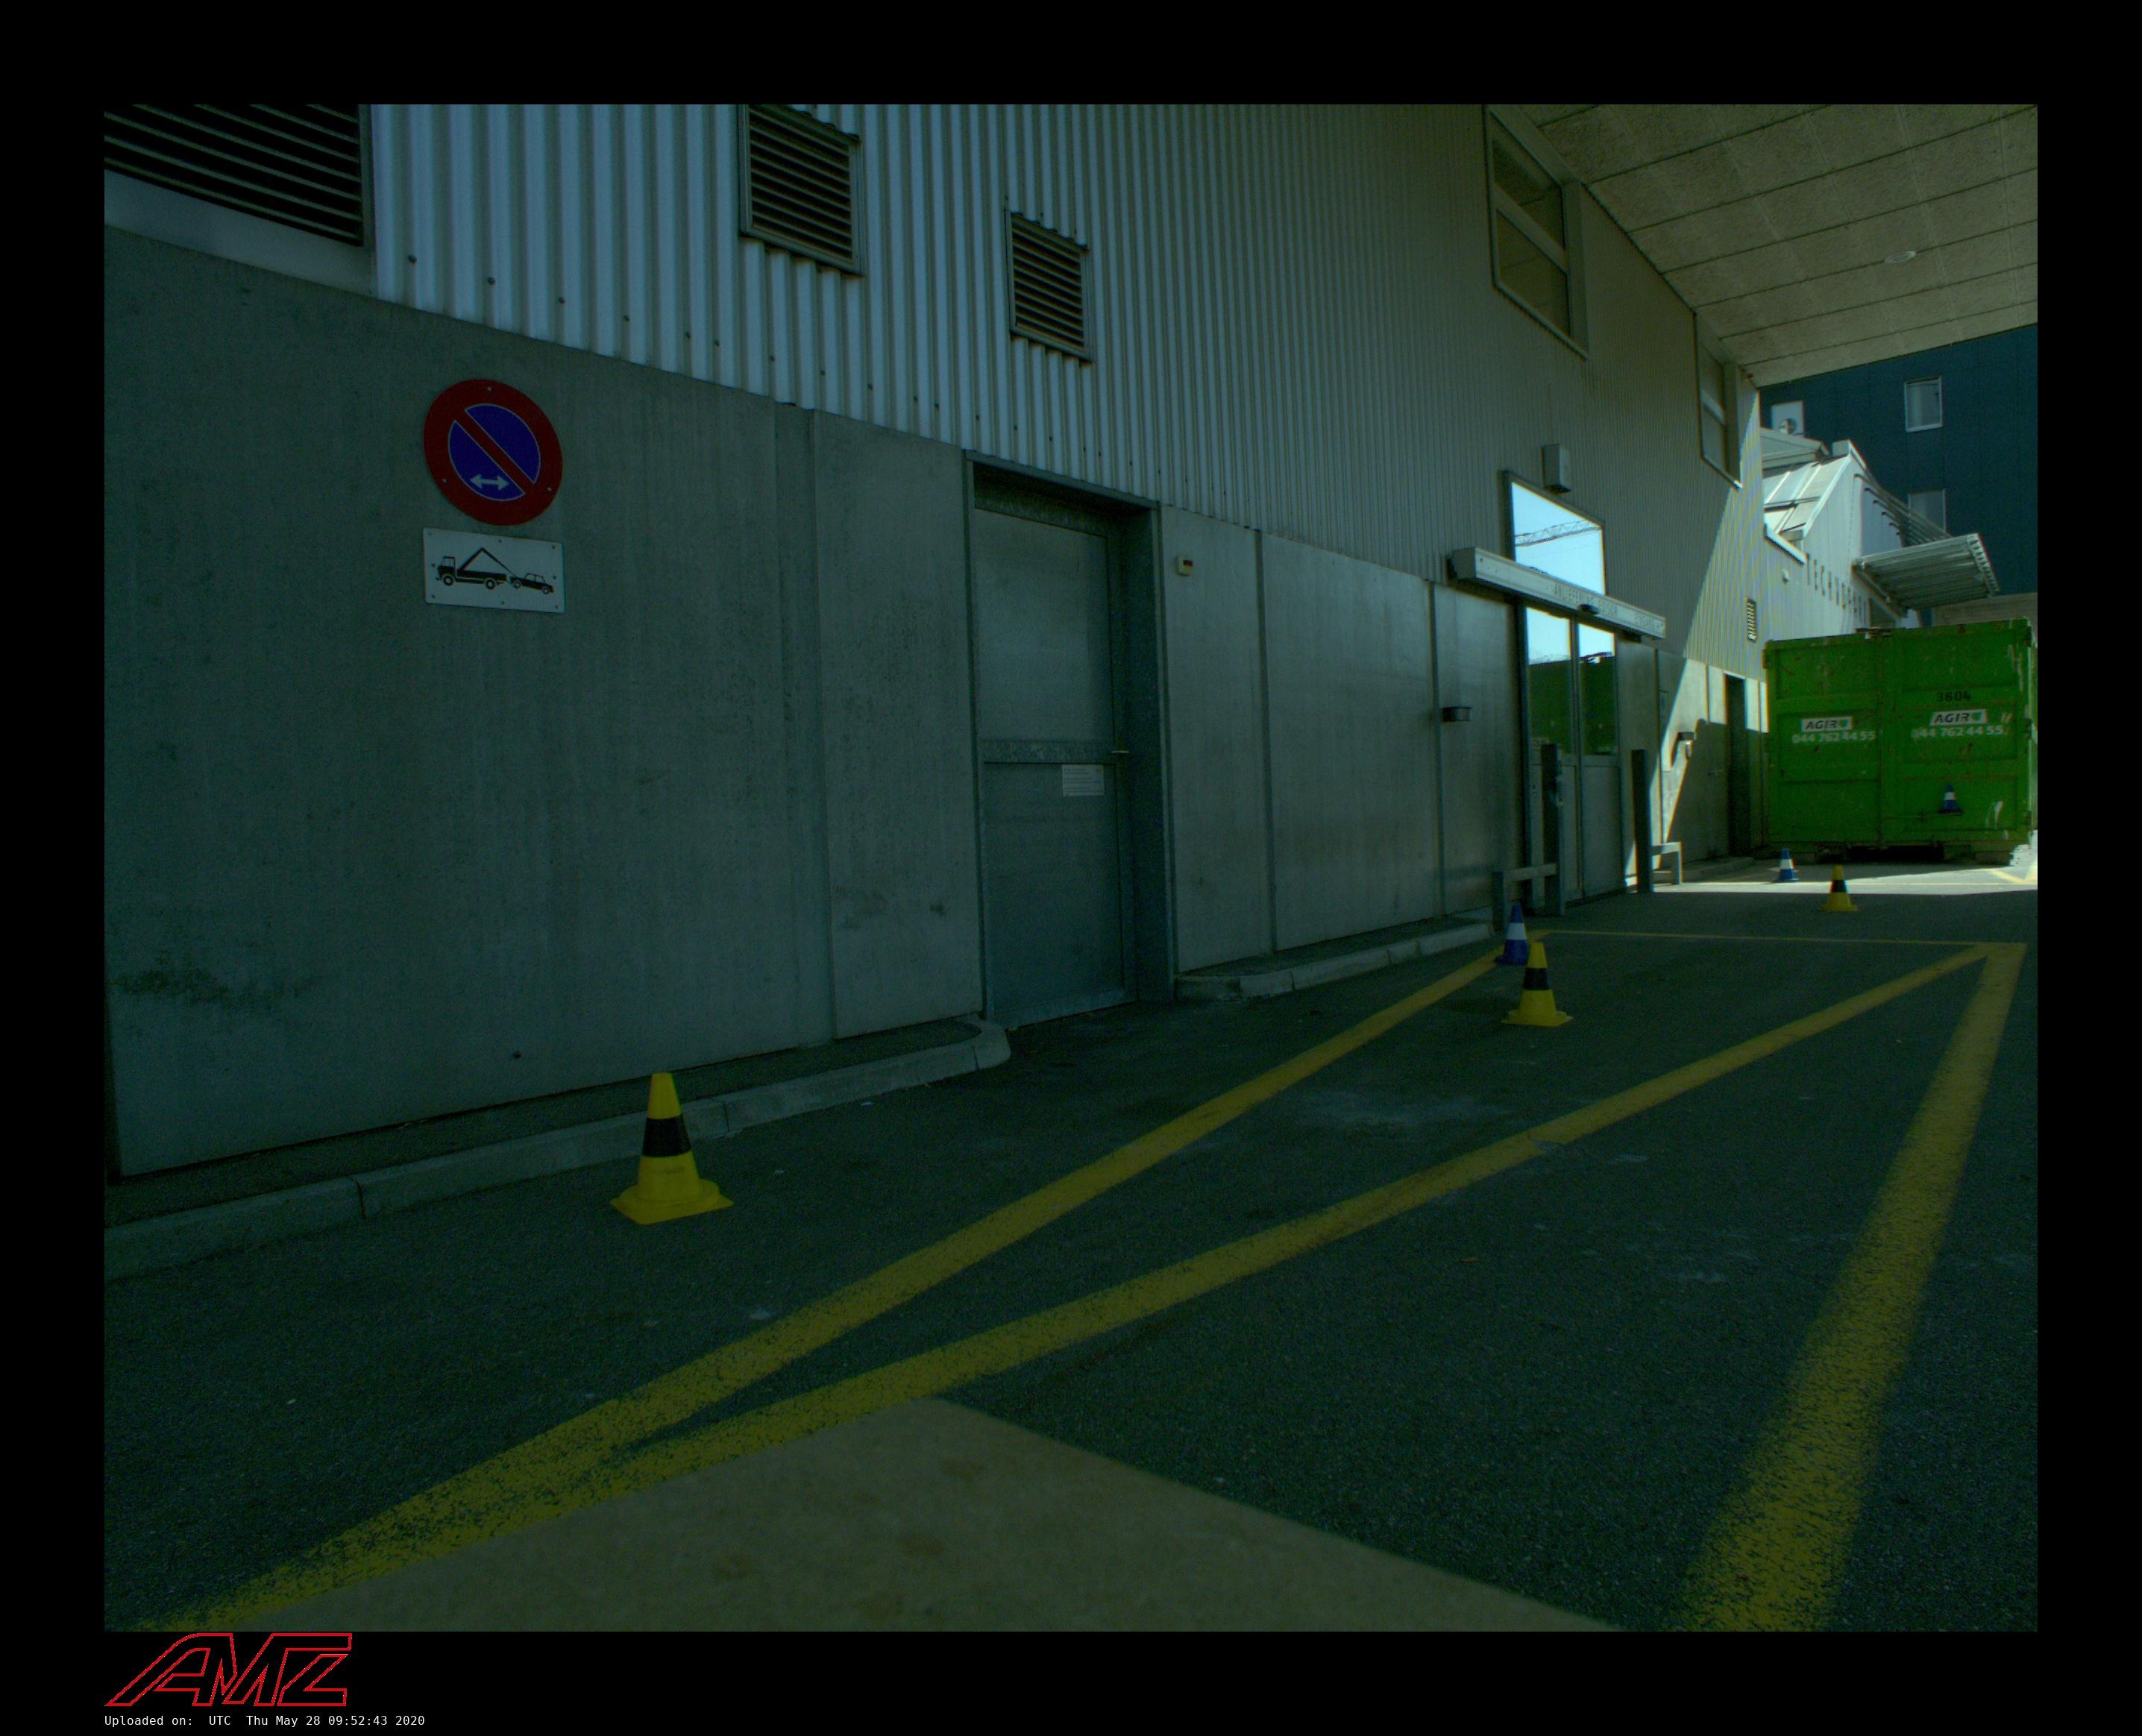blue_cone: (1492, 905, 1529, 965), (1772, 849, 1798, 882)
yellow_cone: (609, 1075, 733, 1226), (1501, 942, 1573, 1027), (1820, 866, 1859, 912)
